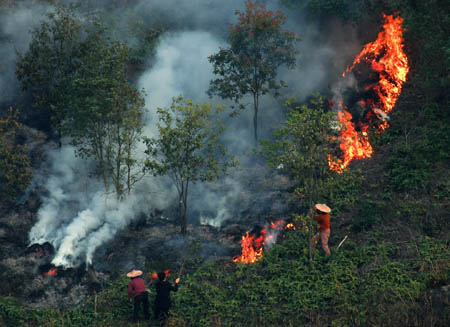fire: (334, 19, 416, 168)
smoke: (48, 44, 223, 248)
